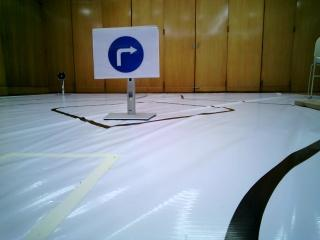right: (97, 32, 153, 77)
